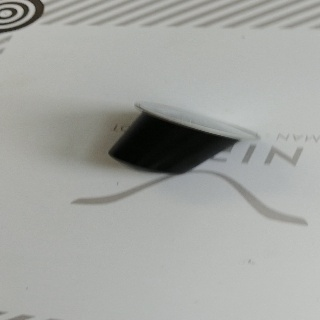capsule_10: (106, 99, 260, 176)
